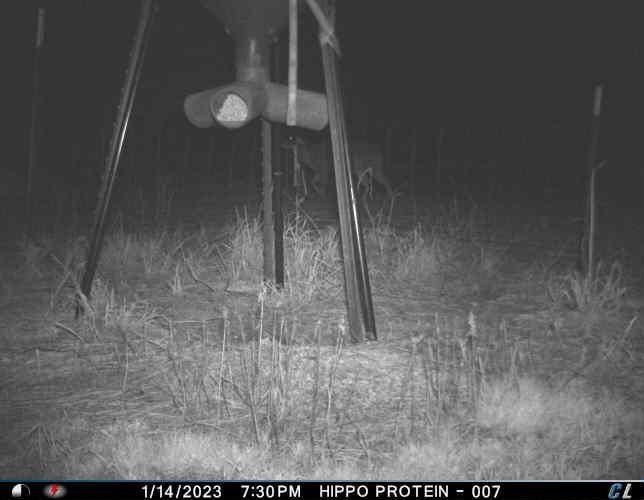Deer: (284, 131, 401, 211)
